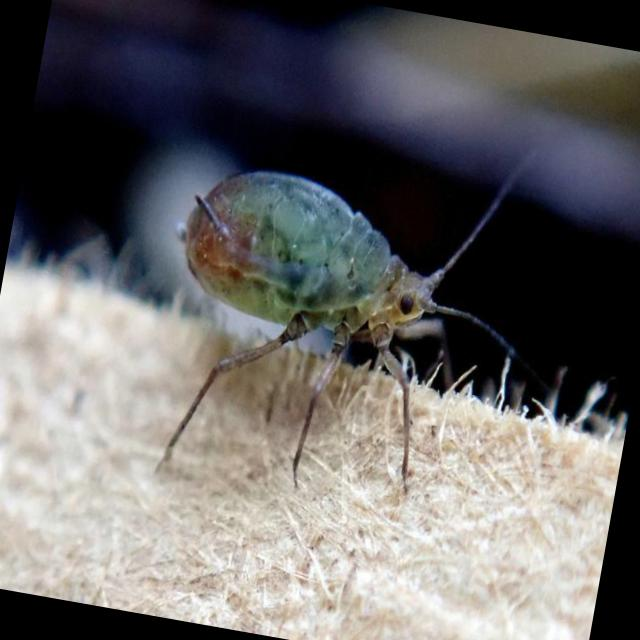Aphids: (108, 103, 584, 545)
